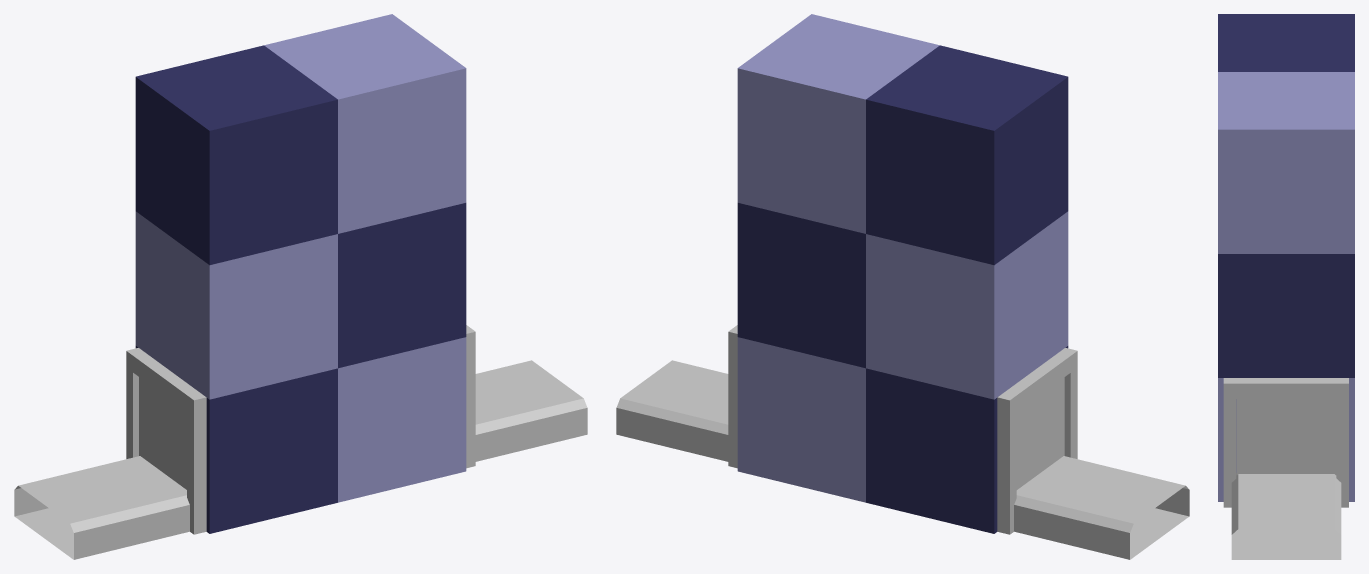
Rendered from SmallStorage_StorageUnitMicro.obj.
3 views of the same model, side by side, from view 1: azimuth 30°, elevation 25°; view 2: azimuth 150°, elevation 25°; view 3: azimuth 270°, elevation 25° (orthographic). The views are drawn at different scales.
Bounding box in the file's own units: 8 × 6 × 2.
